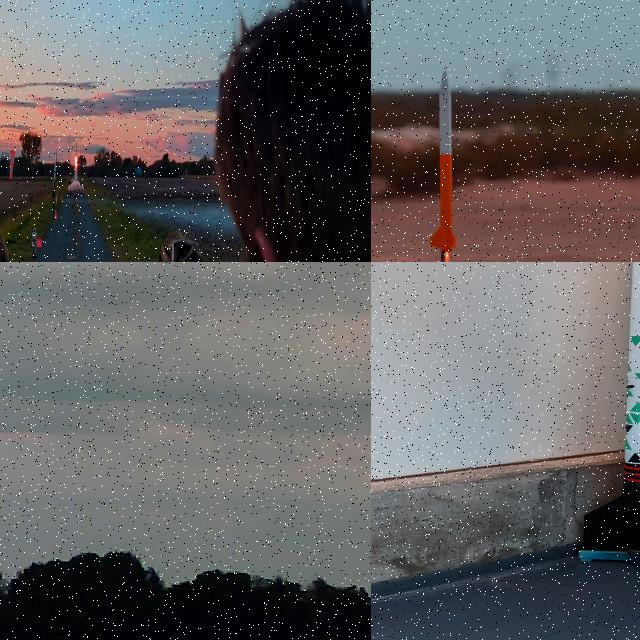Rocket: (583, 262, 640, 551), (428, 66, 460, 253), (76, 141, 78, 158)
